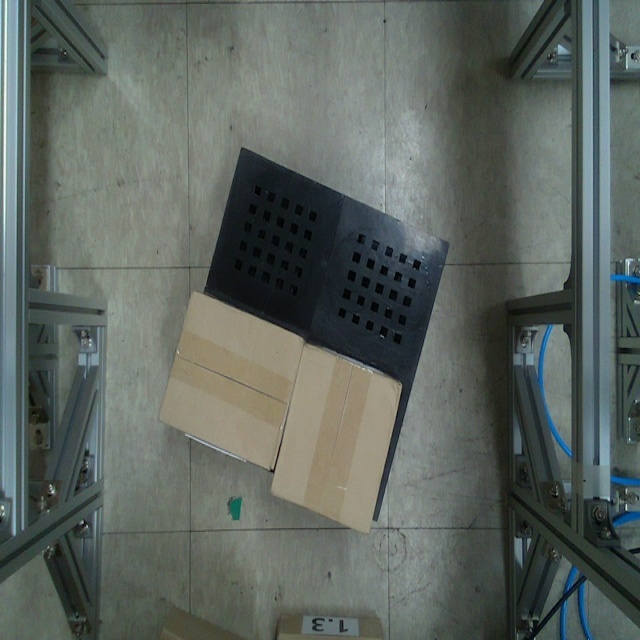box: (157, 287, 304, 473), (269, 339, 405, 539)
